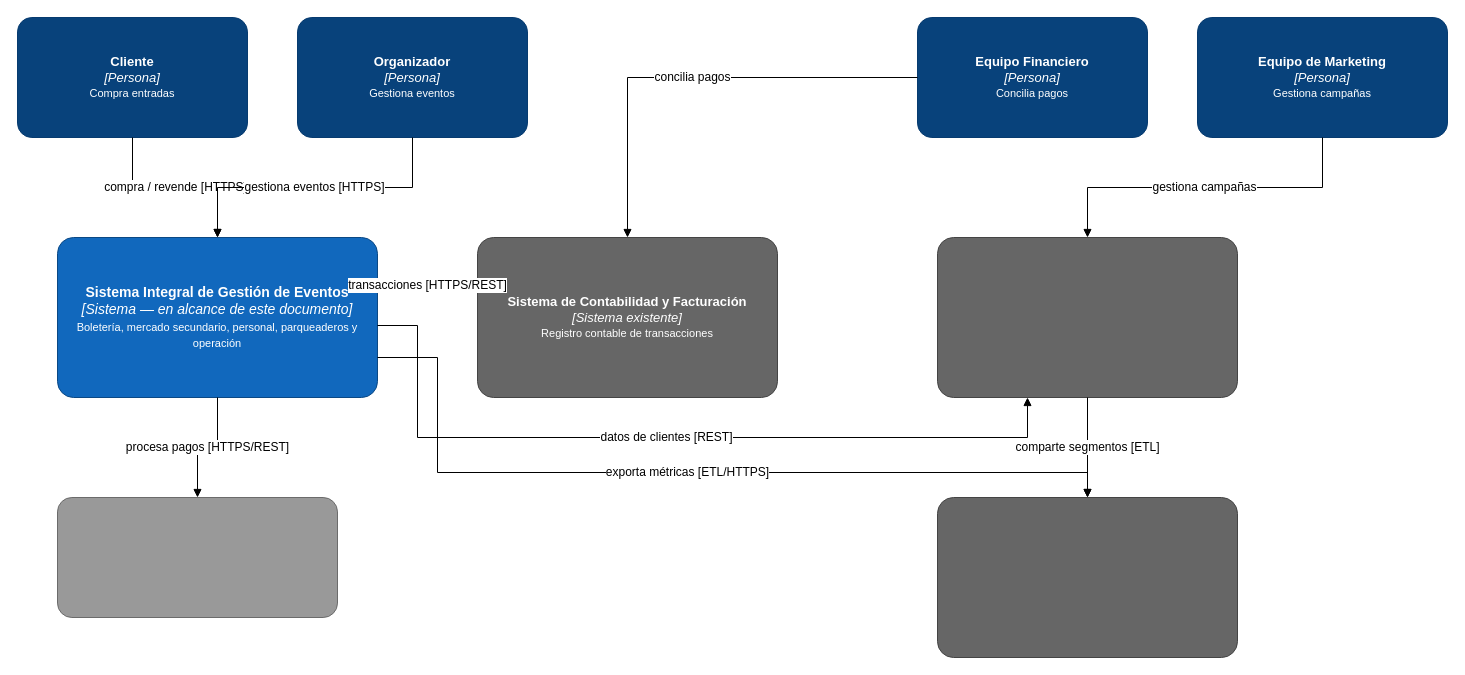
Some shapes in this 1465 by 675 pixel diagram are drawn without their labels. The shapes that lost their labels are listed below. From the top down, each one's box as (x1, y1, x2, y2) in pixels, then its label:
(936, 236, 1238, 398): CRM y Marketing [Sistema existente] Campañas y segmentación de clientes
(56, 496, 338, 618): Pasarela de Pagos [Sistema externo] Procesa cobros y reembolsos
(936, 496, 1238, 658): Plataforma de Analítica (BI) [Sistema existente] Métricas y reportes ejecutivos
